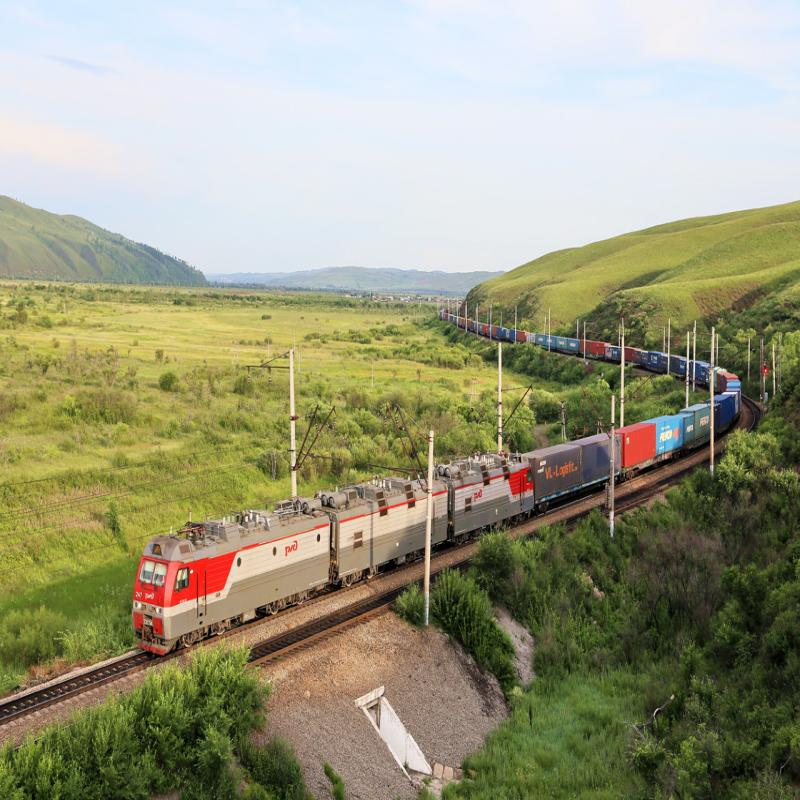train: (126, 464, 337, 679), (325, 434, 453, 604), (440, 412, 541, 555), (528, 406, 619, 526)
